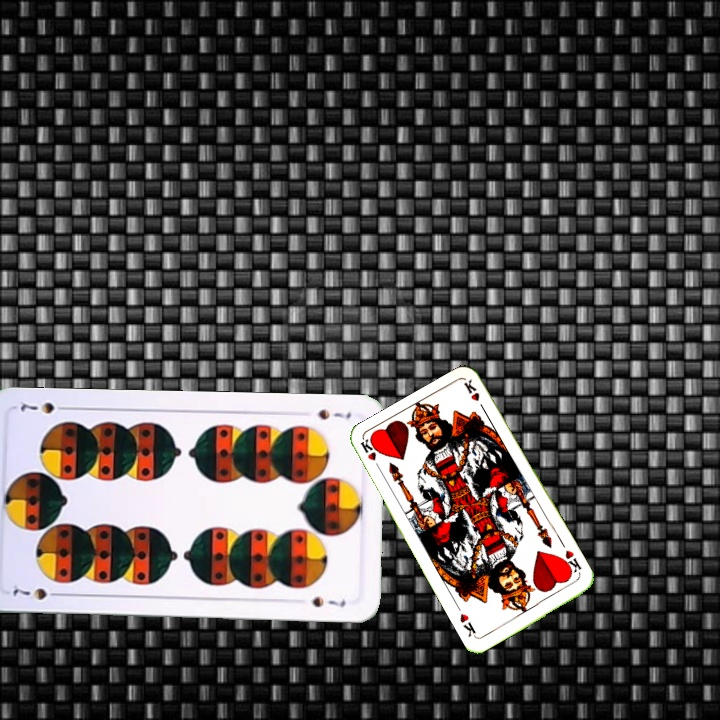HK: (357, 435, 385, 474), (558, 546, 584, 577)
S7: (9, 581, 65, 603), (314, 404, 354, 423)
